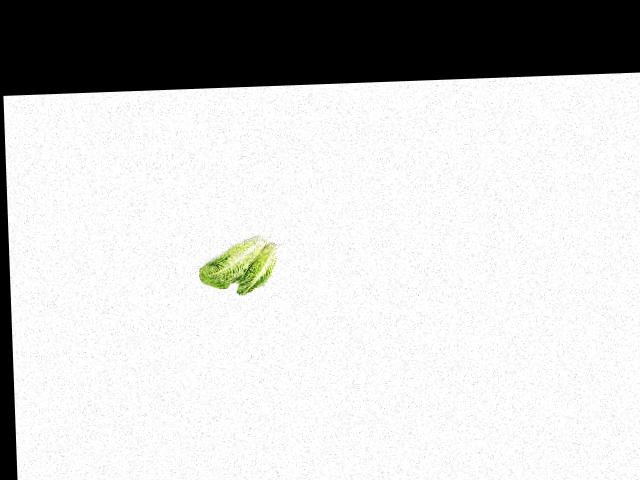lettuce: (197, 232, 263, 292)
